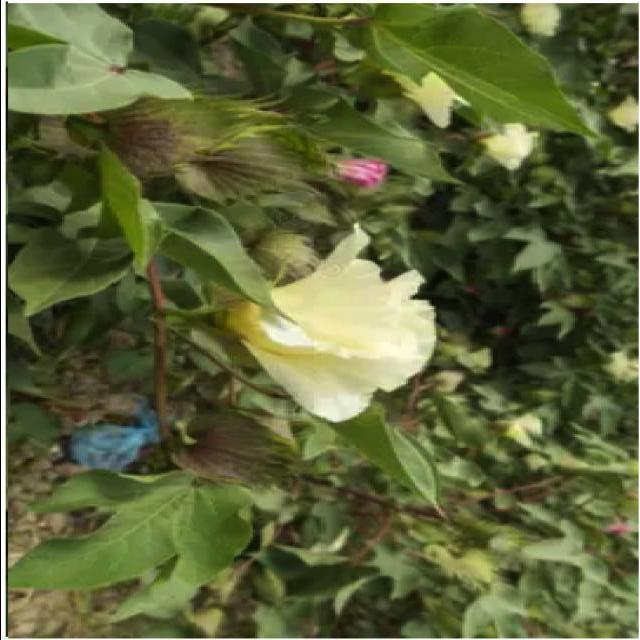Cotton Blossom: (196, 222, 448, 430), (311, 154, 399, 196)
Cotton Bud: (102, 92, 293, 178), (173, 126, 325, 206), (166, 411, 303, 489)
